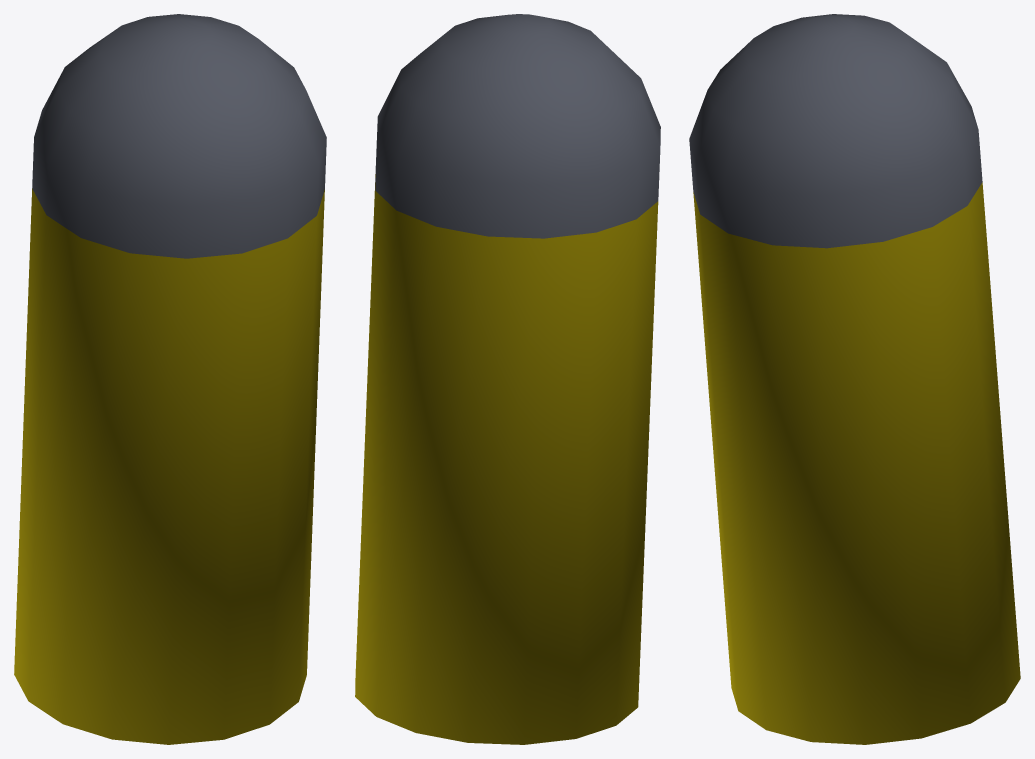
File: arbullet.fbx
3 renders of one model, left to right at view 1: azimuth 30°, elevation 25°; view 2: azimuth 150°, elevation 25°; view 3: azimuth 270°, elevation 25°, orthographic.
Visible parts, largest first — view 1: ar ammo.001; view 2: ar ammo.001; view 3: ar ammo.001.
Boxes of the visible parts, left/top/right/bottom form: ar ammo.001: left=14, top=14, right=326, bottom=744; ar ammo.001: left=355, top=14, right=660, bottom=744; ar ammo.001: left=689, top=14, right=1020, bottom=744.
Size of the model in its own units: 197 by 495 by 224.
